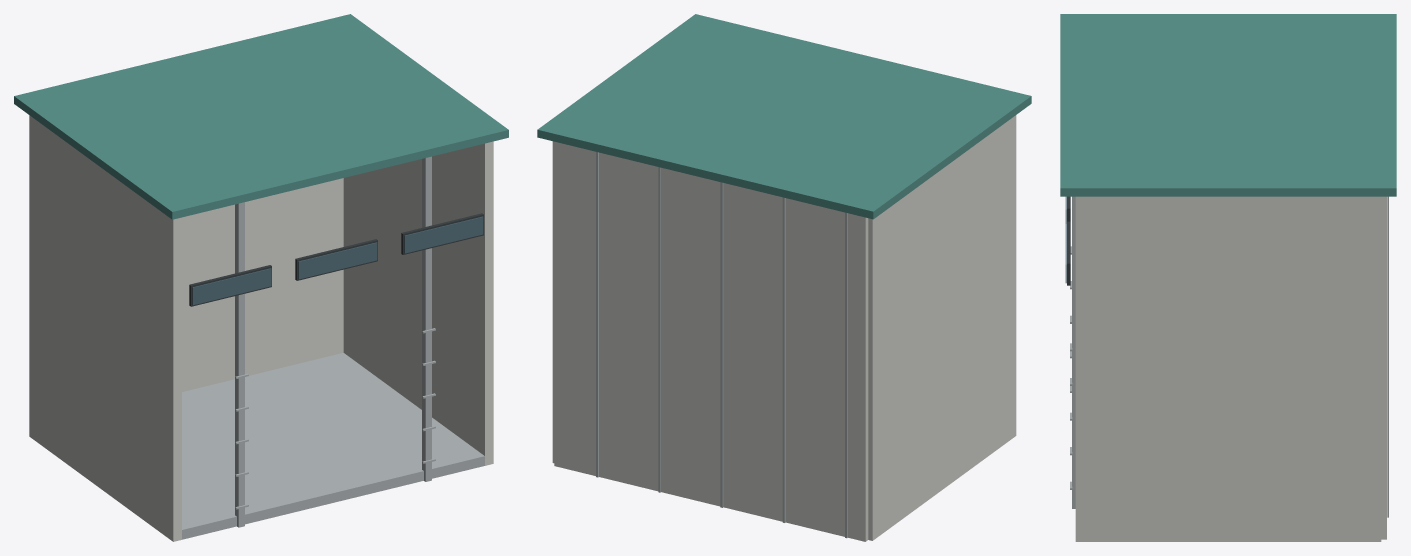
Rendered from prop_tower.glb.
The picture shows the model from 3 angles, left to right: view 1: azimuth 30°, elevation 25°; view 2: azimuth 150°, elevation 25°; view 3: azimuth 270°, elevation 25°; orthographic projection. The views are drawn at different scales.
Visible parts, largest first — view 1: media-tower; view 2: media-tower; view 3: media-tower.
Boxes of the visible parts, x1=… form: media-tower: x1=14, y1=14, x2=508, y2=541; media-tower: x1=537, y1=14, x2=1031, y2=541; media-tower: x1=1060, y1=14, x2=1396, y2=541.
Bounding box in the file's own units: 5.4 × 5.17 × 4.4.
